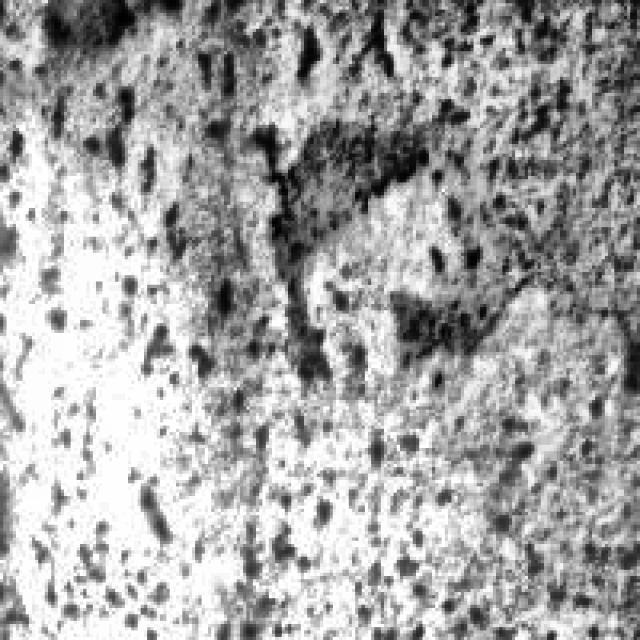Rolled_in_Scale: (3, 25, 589, 630)
